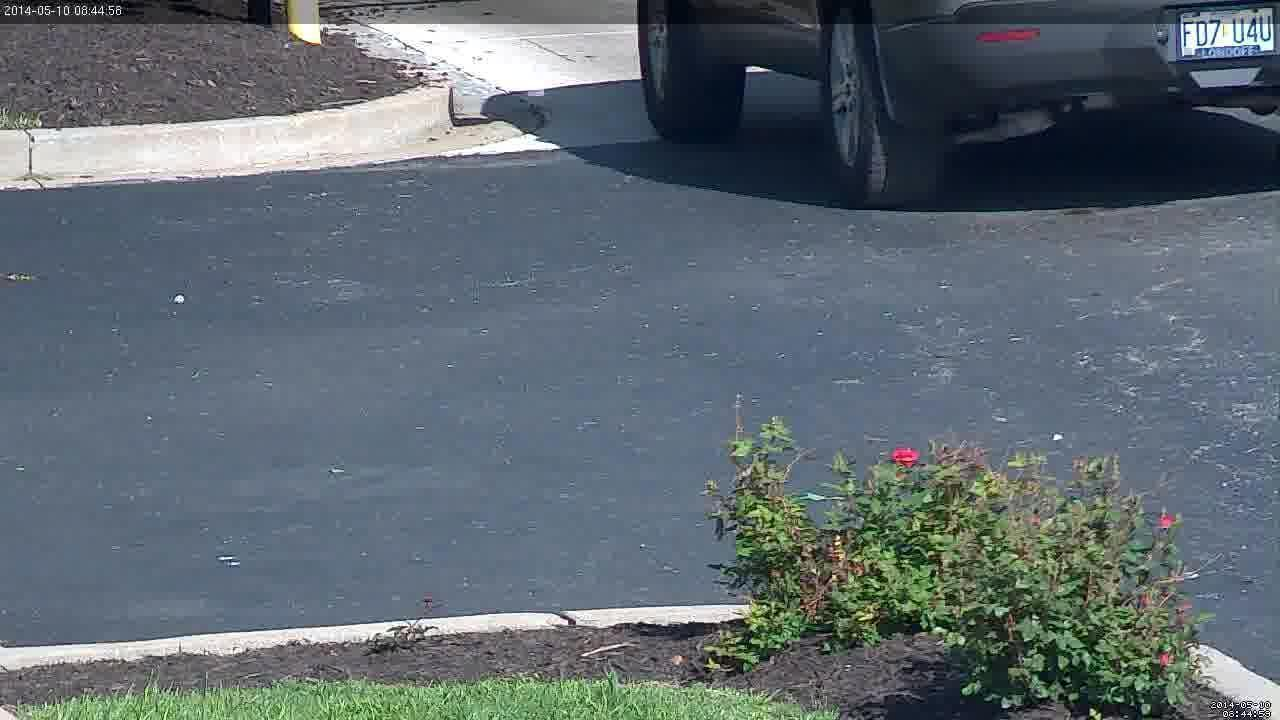placa de veiculo: (1159, 0, 1278, 80)
